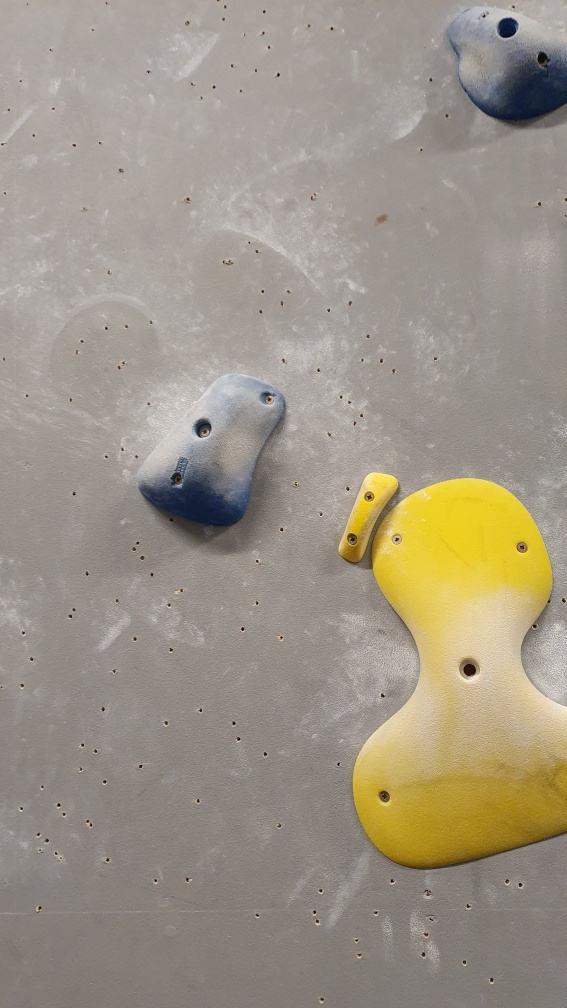Pinch: (334, 469, 403, 569)
